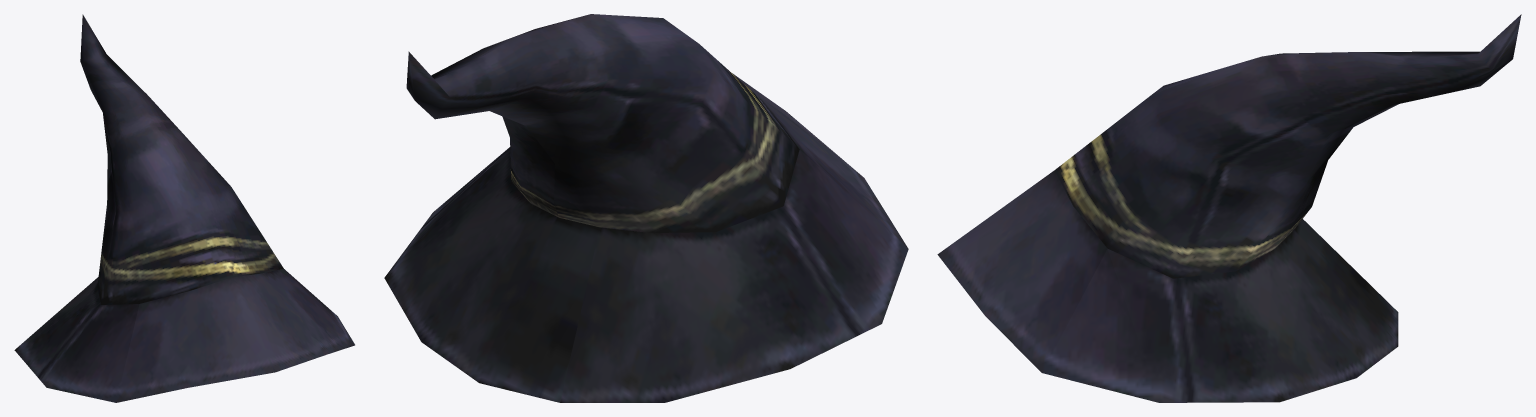
The picture shows the model from 3 angles, left to right: view 1: azimuth 30°, elevation 25°; view 2: azimuth 150°, elevation 25°; view 3: azimuth 270°, elevation 25°; orthographic projection. The views are drawn at different scales.
Visible parts, largest first — view 1: EM_011092_01_063; view 2: EM_011092_01_063; view 3: EM_011092_01_063.
Part boxes in pixels (x1,y1,x2,y2): EM_011092_01_063: [14, 14, 354, 402]; EM_011092_01_063: [384, 14, 908, 402]; EM_011092_01_063: [937, 14, 1521, 402].
Size of the model in its own units: 0.3831 by 0.3127 by 0.4983.
Materials: 1 (1 with a texture image).
